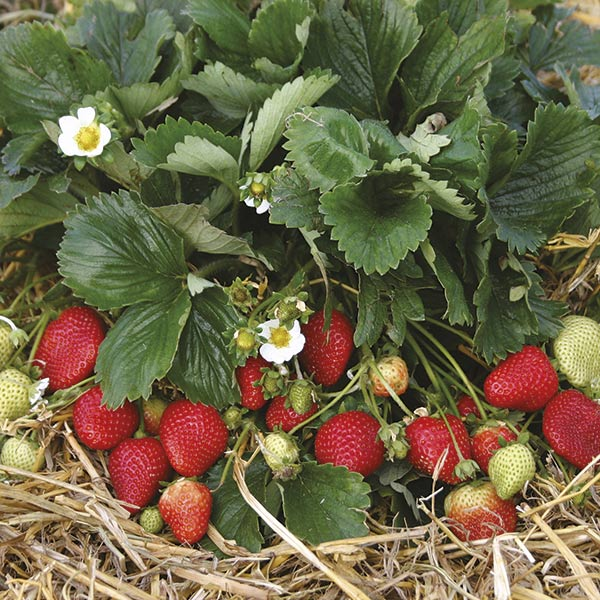ripe_strawberry: (33, 302, 110, 392), (160, 397, 231, 479), (482, 343, 562, 415), (402, 410, 473, 487), (541, 386, 600, 476), (315, 407, 388, 478), (108, 436, 172, 512), (71, 384, 142, 450), (300, 308, 356, 387), (158, 480, 217, 543), (471, 421, 518, 479), (266, 391, 318, 436), (239, 354, 273, 411), (450, 395, 482, 419)
unripe_strawberry: (443, 479, 519, 543), (548, 313, 600, 403), (362, 353, 415, 398), (1, 366, 39, 421), (1, 436, 49, 477), (286, 379, 318, 417), (1, 321, 26, 369), (274, 295, 305, 324), (139, 507, 164, 535)
